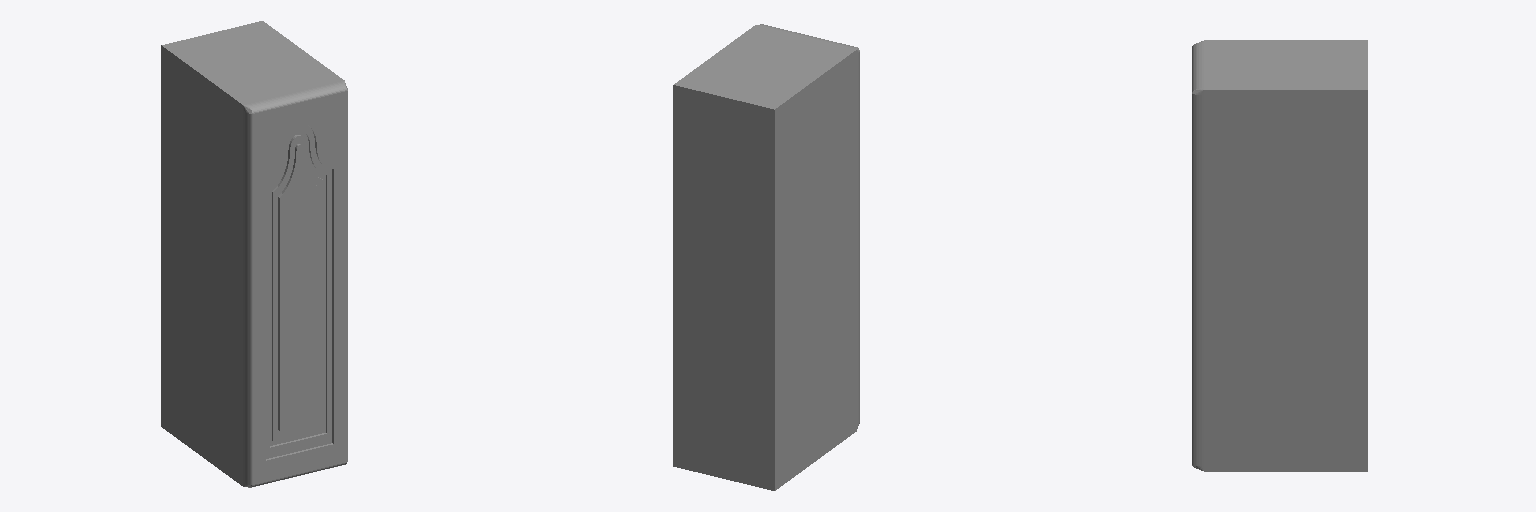
File: single-wall-unit-200.obj
3 views of the same model, side by side, from view 1: azimuth 30°, elevation 25°; view 2: azimuth 150°, elevation 25°; view 3: azimuth 270°, elevation 25° (orthographic).
Parts seen in each view (by area): view 1: Cube.003_Cube.008, Cube.002_Cube.004, Cube_Cube.002, Cube.001_Cube.003; view 2: Cube_Cube.002, Cube.002_Cube.004, Cube.001_Cube.003, Cube.003_Cube.008; view 3: Cube.001_Cube.003, Cube_Cube.002, Cube.003_Cube.008, Cube.002_Cube.004.
Part boxes in pixels (left/top/right/bottom): Cube.003_Cube.008: left=243, top=81, right=347, bottom=487; Cube.002_Cube.004: left=161, top=44, right=250, bottom=485; Cube_Cube.002: left=169, top=23, right=336, bottom=102; Cube.001_Cube.003: left=255, top=21, right=344, bottom=81; Cube_Cube.002: left=681, top=27, right=847, bottom=488; Cube.002_Cube.004: left=767, top=48, right=856, bottom=490; Cube.001_Cube.003: left=673, top=25, right=761, bottom=467; Cube.003_Cube.008: left=758, top=24, right=859, bottom=428; Cube.001_Cube.003: left=1204, top=86, right=1367, bottom=471; Cube_Cube.002: left=1204, top=44, right=1367, bottom=85; Cube.003_Cube.008: left=1192, top=41, right=1203, bottom=470; Cube.002_Cube.004: left=1204, top=40, right=1367, bottom=43.
Size of the model in its own units: 40 by 144 by 60.